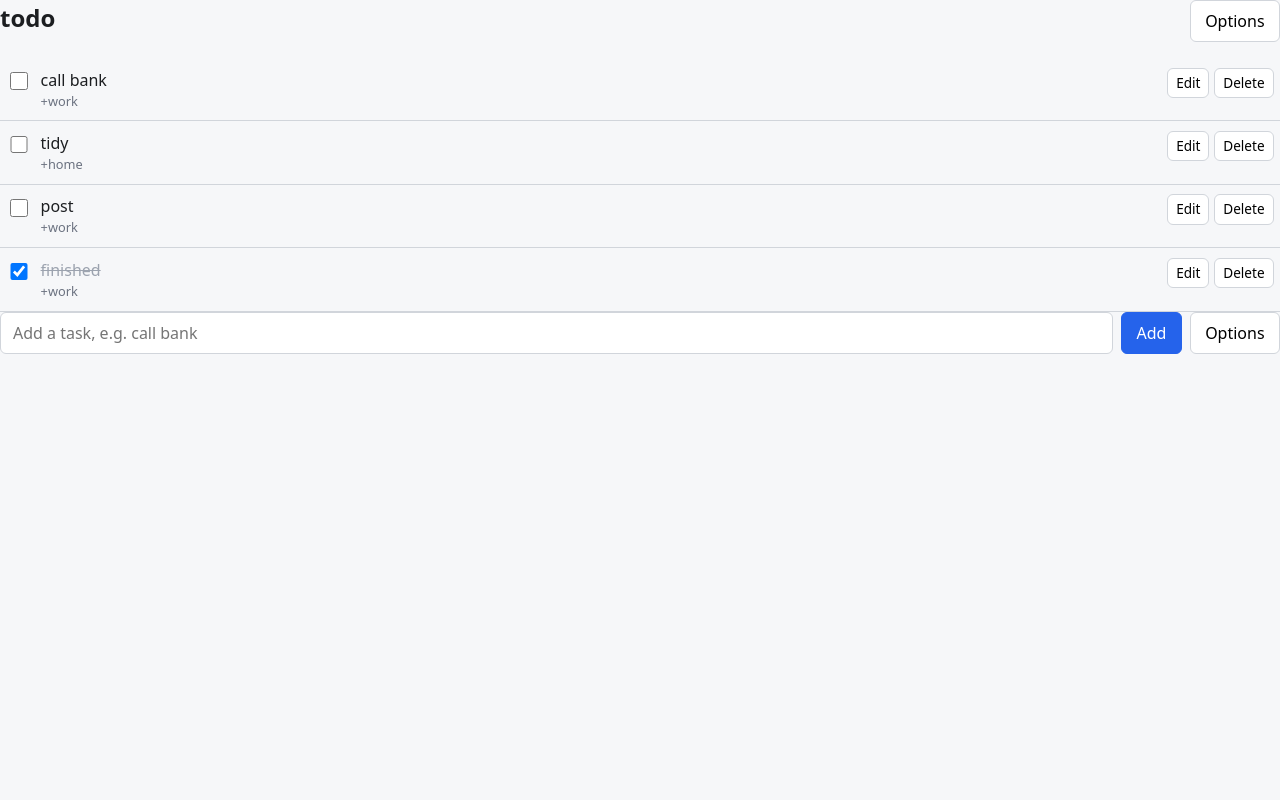
it: TodoPane simplified workflow (compact=true) › list filtering includes completed tasks and offers no status/context controls
The image size is (1280, 800).
Expected: the text "finished" is shown, [41,259,101,281]
Click the button with aria-label "filter options".
click(1235, 21)  # box [1190,0,1279,42]
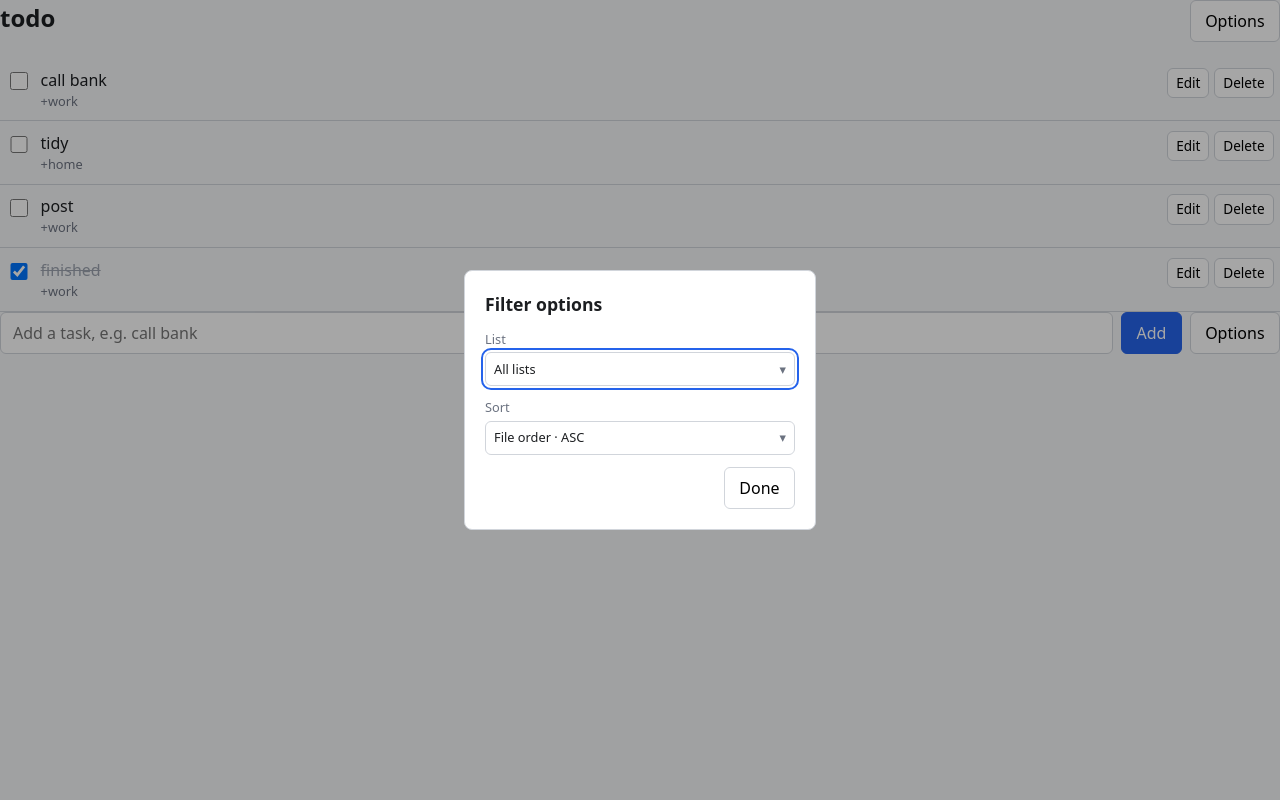
Click the button with aria-label "list filter".
click(515, 369)  # box [485,352,795,386]
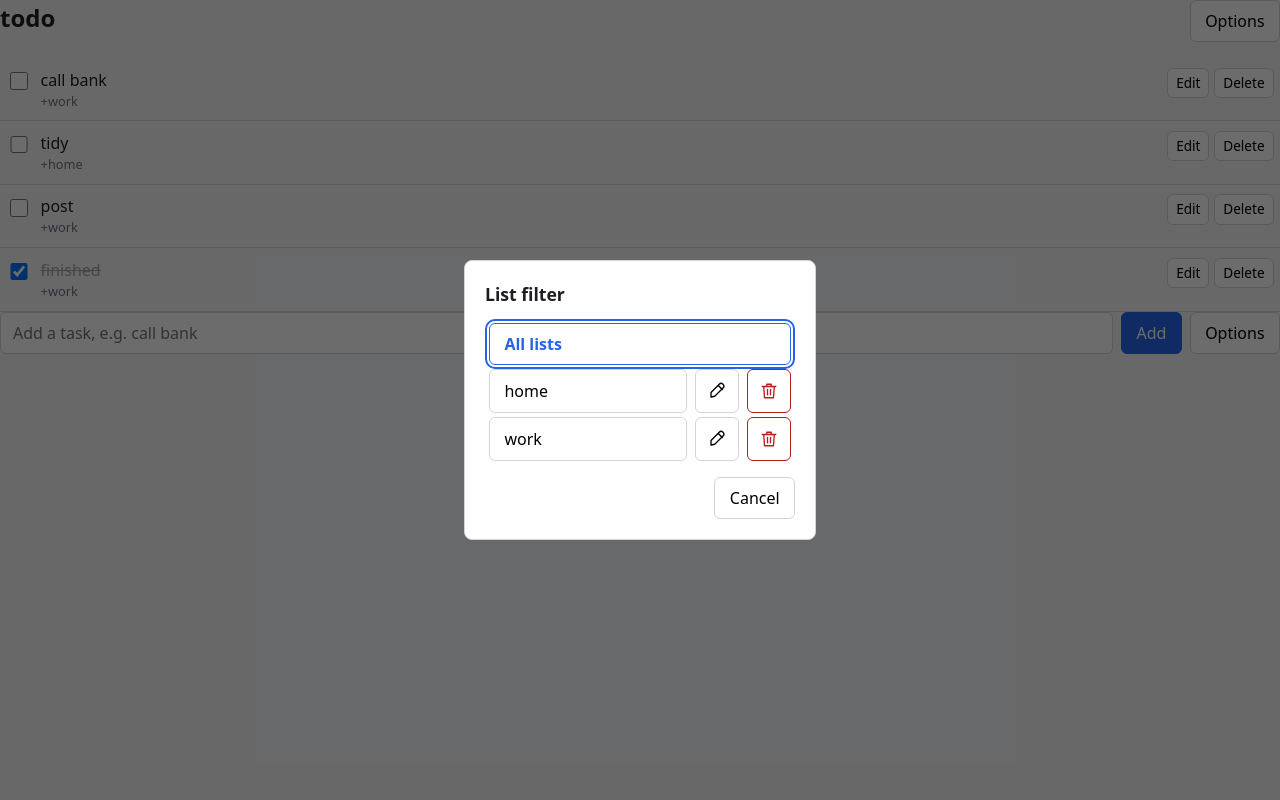
Click the button "work".
click(588, 439)  # box [489,417,687,461]
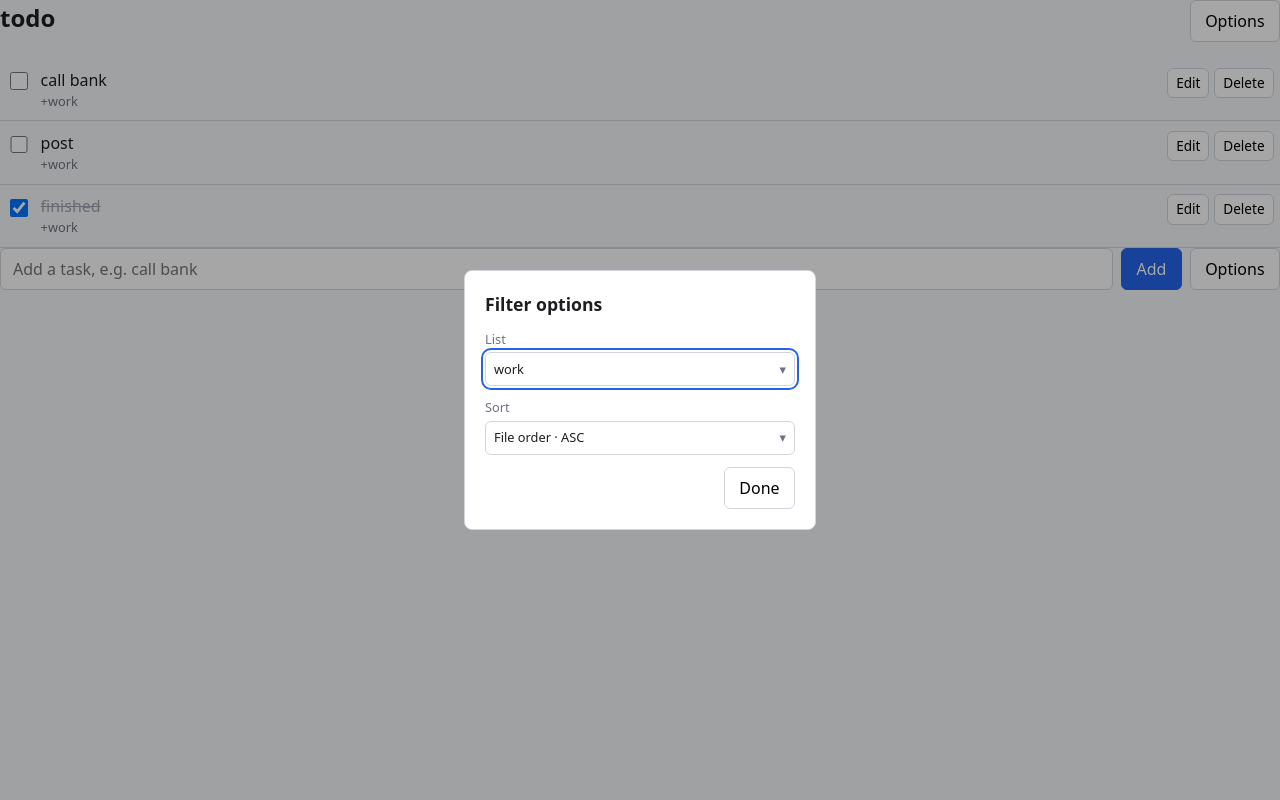
Expected: the text with class "meta" reads "+work", [41,218,78,236]
Expected: the text "tidy" is gone
